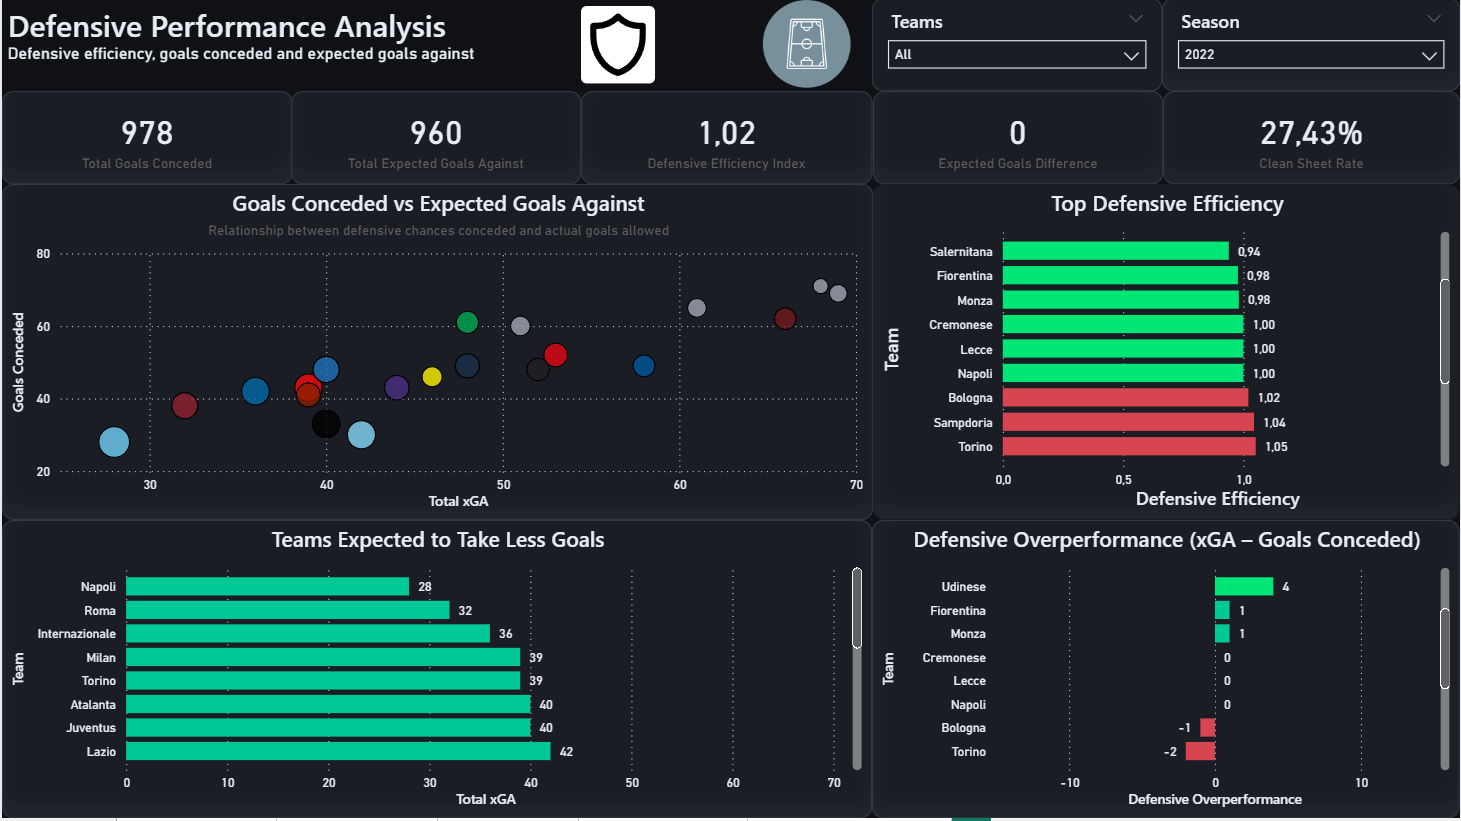

Layout of this report page (visuals, bound fields, positions):
{"tool":"powerbi","page":{"name":"Defensive Analysis","canvas":[1280,720],"ordinal":2},"visuals":[{"type":"card","fields":{"Values":["matches_seriea.Goals Conceded"]},"box":[0,81.7,254.6,81.7],"z":0},{"type":"slicer","fields":{"Values":["matches_seriea.season"]},"box":[1018.5,0,261.7,81.7],"z":1000},{"type":"slicer","fields":{"Values":["matches_seriea.team"]},"box":[763.9,0,254.6,81.7],"z":2000},{"type":"card","fields":{"Values":["matches_seriea.Total xGA"]},"box":[253.8,81.7,254.6,81.7],"z":3000},{"type":"card","fields":{"Values":["matches_seriea.Defensive Efficiency"]},"box":[508.4,81.7,255.5,81.7],"z":4000},{"type":"card","fields":{"Values":["matches_seriea.xG Diff"]},"box":[764.8,81.7,254.6,81.7],"z":5000},{"type":"card","fields":{"Values":["matches_seriea.Clean Sheet %"]},"box":[1019.4,81.7,260.8,81.7],"z":6000},{"type":"scatterChart","title":"Goals Conceded vs Expected Goals Against","fields":{"X":["matches_seriea.Total xGA"],"Y":["matches_seriea.Goals Conceded"],"Size":["matches_seriea.Total Points"],"Category":["SERIE A LOGOS - Foglio1 (1).Team"]},"box":[0,163.3,764.8,295],"z":7000},{"type":"barChart","title":"Top Defensive Efficiency","fields":{"Category":["matches_seriea.team"],"Y":["matches_seriea.Defensive Efficiency"]},"box":[764.8,163.3,515.4,295],"z":8000},{"type":"barChart","title":"Teams Expected to Take Less Goals","fields":{"Category":["matches_seriea.team"],"Y":["matches_seriea.Total xGA"]},"box":[0,458.3,763.9,261.7],"z":9000},{"type":"barChart","title":"Defensive Overperformance (xGA – Goals Conceded)","fields":{"Category":["matches_seriea.team"],"Y":["matches_seriea.Defensive Overperformance"]},"box":[763.9,458.3,516.3,261.7],"z":10000},{"type":"textbox","box":[0,0,508.7,81.7],"z":11000},{"type":"image","box":[640,1.9,132.3,76.8],"z":12000},{"type":"image","box":[508.7,6.8,65.2,68.1],"z":13000}]}

Visuals, with their boxes in screenshot pixels (x1, y1, x2, y2), scaled from the page's 1280x720 canvas onto the 1461x821 screenshot:
card - matches_seriea.Goals Conceded: <region>0, 93, 291, 186</region>
slicer - matches_seriea.season: <region>1163, 0, 1460, 93</region>
slicer - matches_seriea.team: <region>872, 0, 1163, 93</region>
card - matches_seriea.Total xGA: <region>290, 93, 580, 186</region>
card - matches_seriea.Defensive Efficiency: <region>580, 93, 872, 186</region>
card - matches_seriea.xG Diff: <region>873, 93, 1164, 186</region>
card - matches_seriea.Clean Sheet %: <region>1164, 93, 1460, 186</region>
"Goals Conceded vs Expected Goals Against" scatterChart: <region>0, 186, 873, 523</region>
"Top Defensive Efficiency" barChart: <region>873, 186, 1460, 523</region>
"Teams Expected to Take Less Goals" barChart: <region>0, 523, 872, 820</region>
"Defensive Overperformance (xGA – Goals Conceded)" barChart: <region>872, 523, 1460, 820</region>
textbox: <region>0, 0, 581, 93</region>
image: <region>730, 2, 882, 90</region>
image: <region>581, 8, 655, 85</region>
